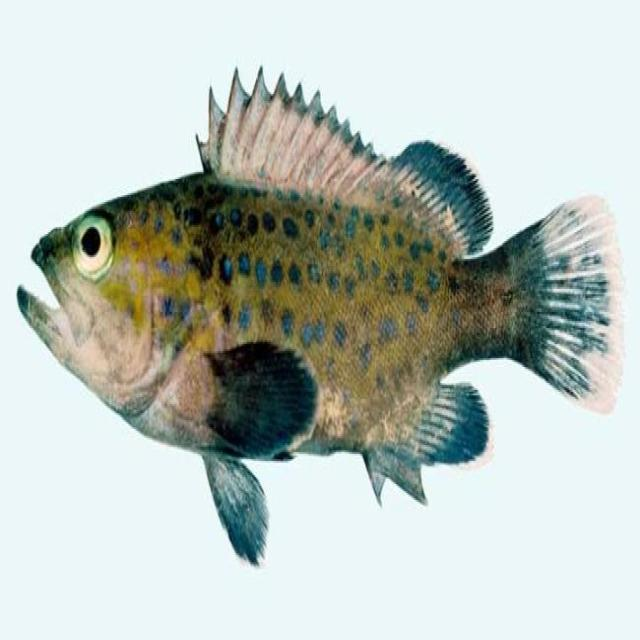ikan: (10, 37, 628, 603)
